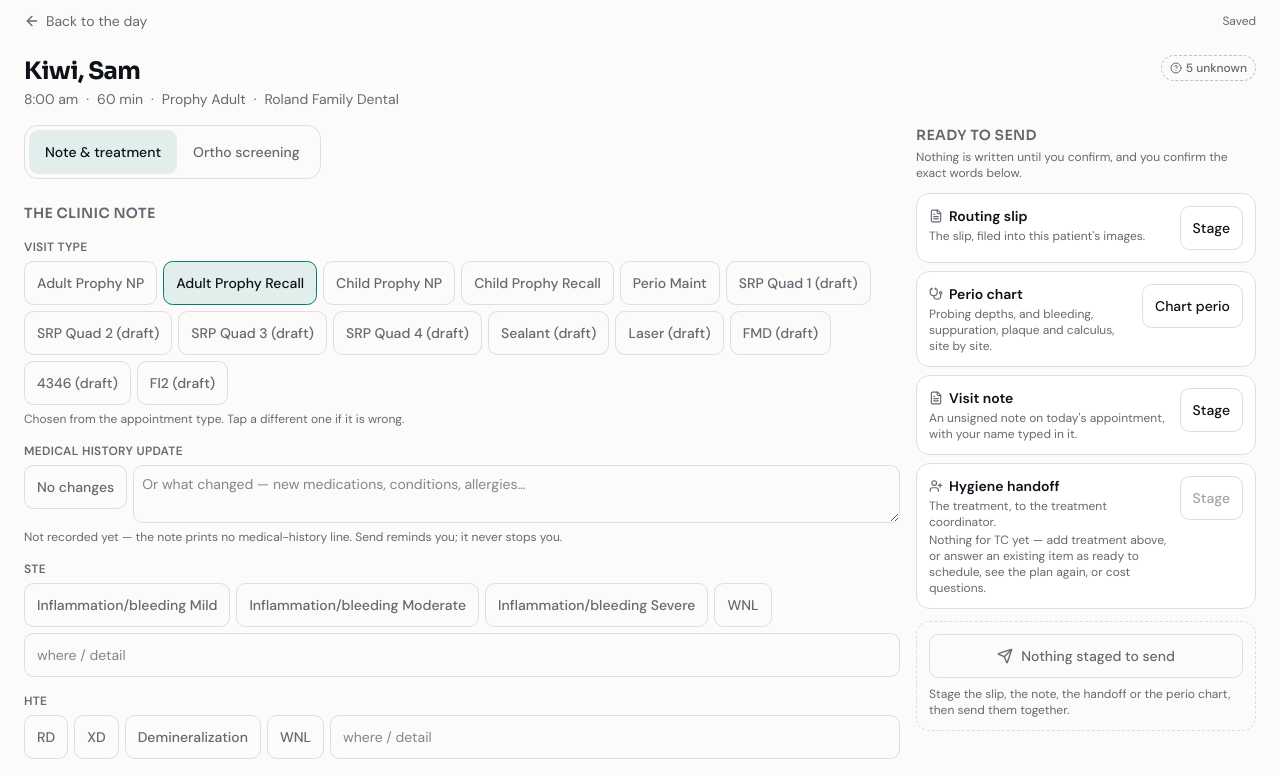
Test: 3: it autosaves with the visit and survives a reload › an older visit with no screening key at all loads without error
Click the tab with test id "hyg-visit-tab-ortho" at (246, 152), box [177, 130, 316, 174]
(page scrolled)
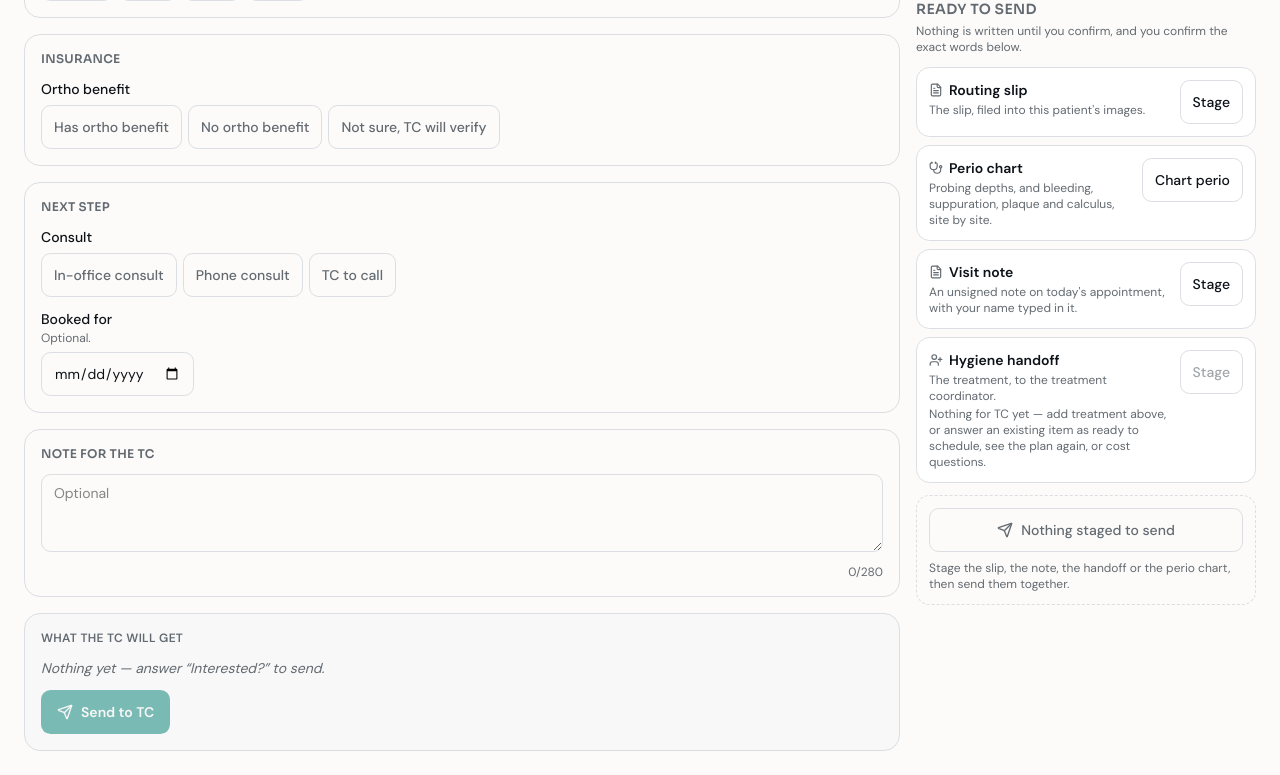
Expected: the button with test id "ortho-send" is disabled, [41, 690, 170, 734]
